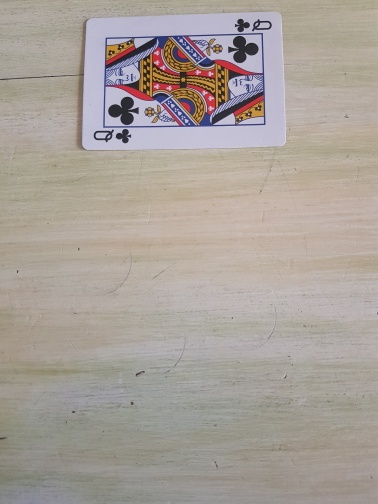queen: (80, 11, 289, 152)
